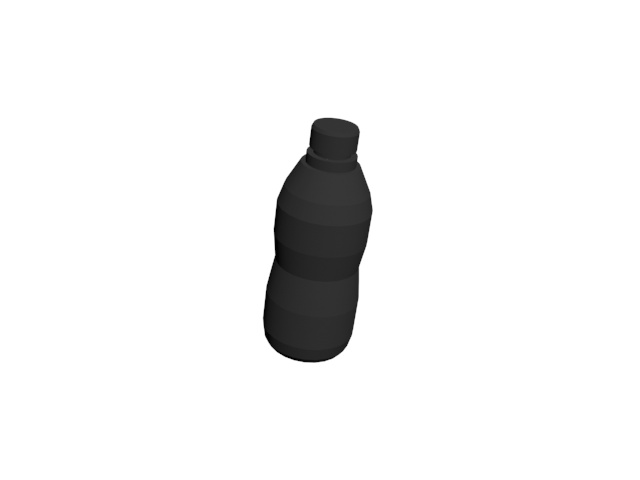bottle: (257, 113, 376, 368)
